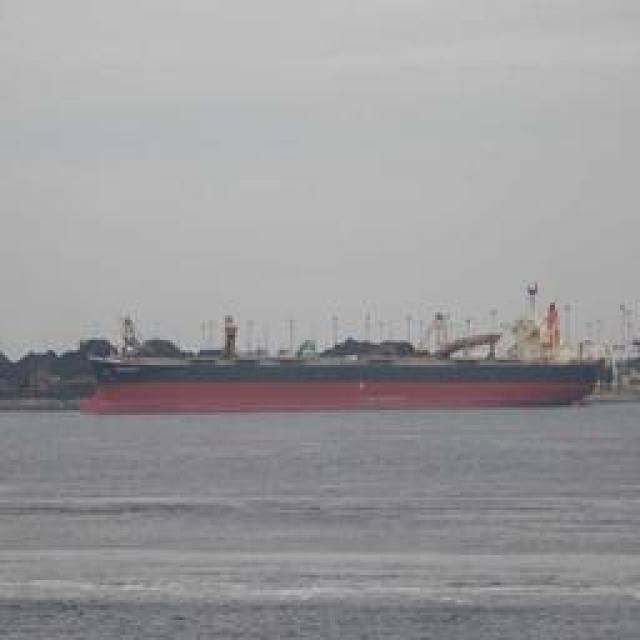CIV_Ship: (81, 332, 609, 398)
